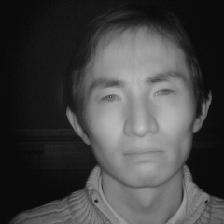sad: (48, 11, 224, 192)
